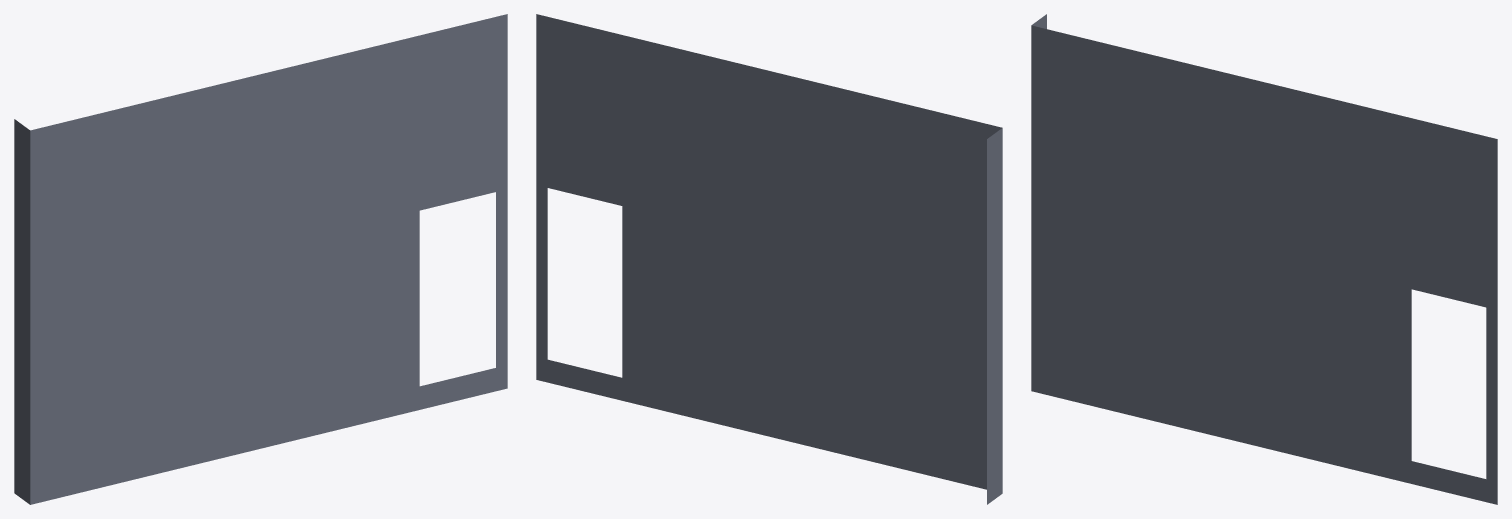
File: wall fix.fbx
The picture shows the model from 3 angles, left to right: view 1: azimuth 30°, elevation 25°; view 2: azimuth 150°, elevation 25°; view 3: azimuth 330°, elevation 25°; orthographic projection. The views are drawn at different scales.
Visible parts, largest first — view 1: Cube.037; view 2: Cube.037; view 3: Cube.037.
Boxes of the visible parts, <box> form: Cube.037: <box>14,14,507,504</box>; Cube.037: <box>536,14,1002,504</box>; Cube.037: <box>1031,14,1497,504</box>.
Size of the model in its own units: 688 by 515 by 39.7.
